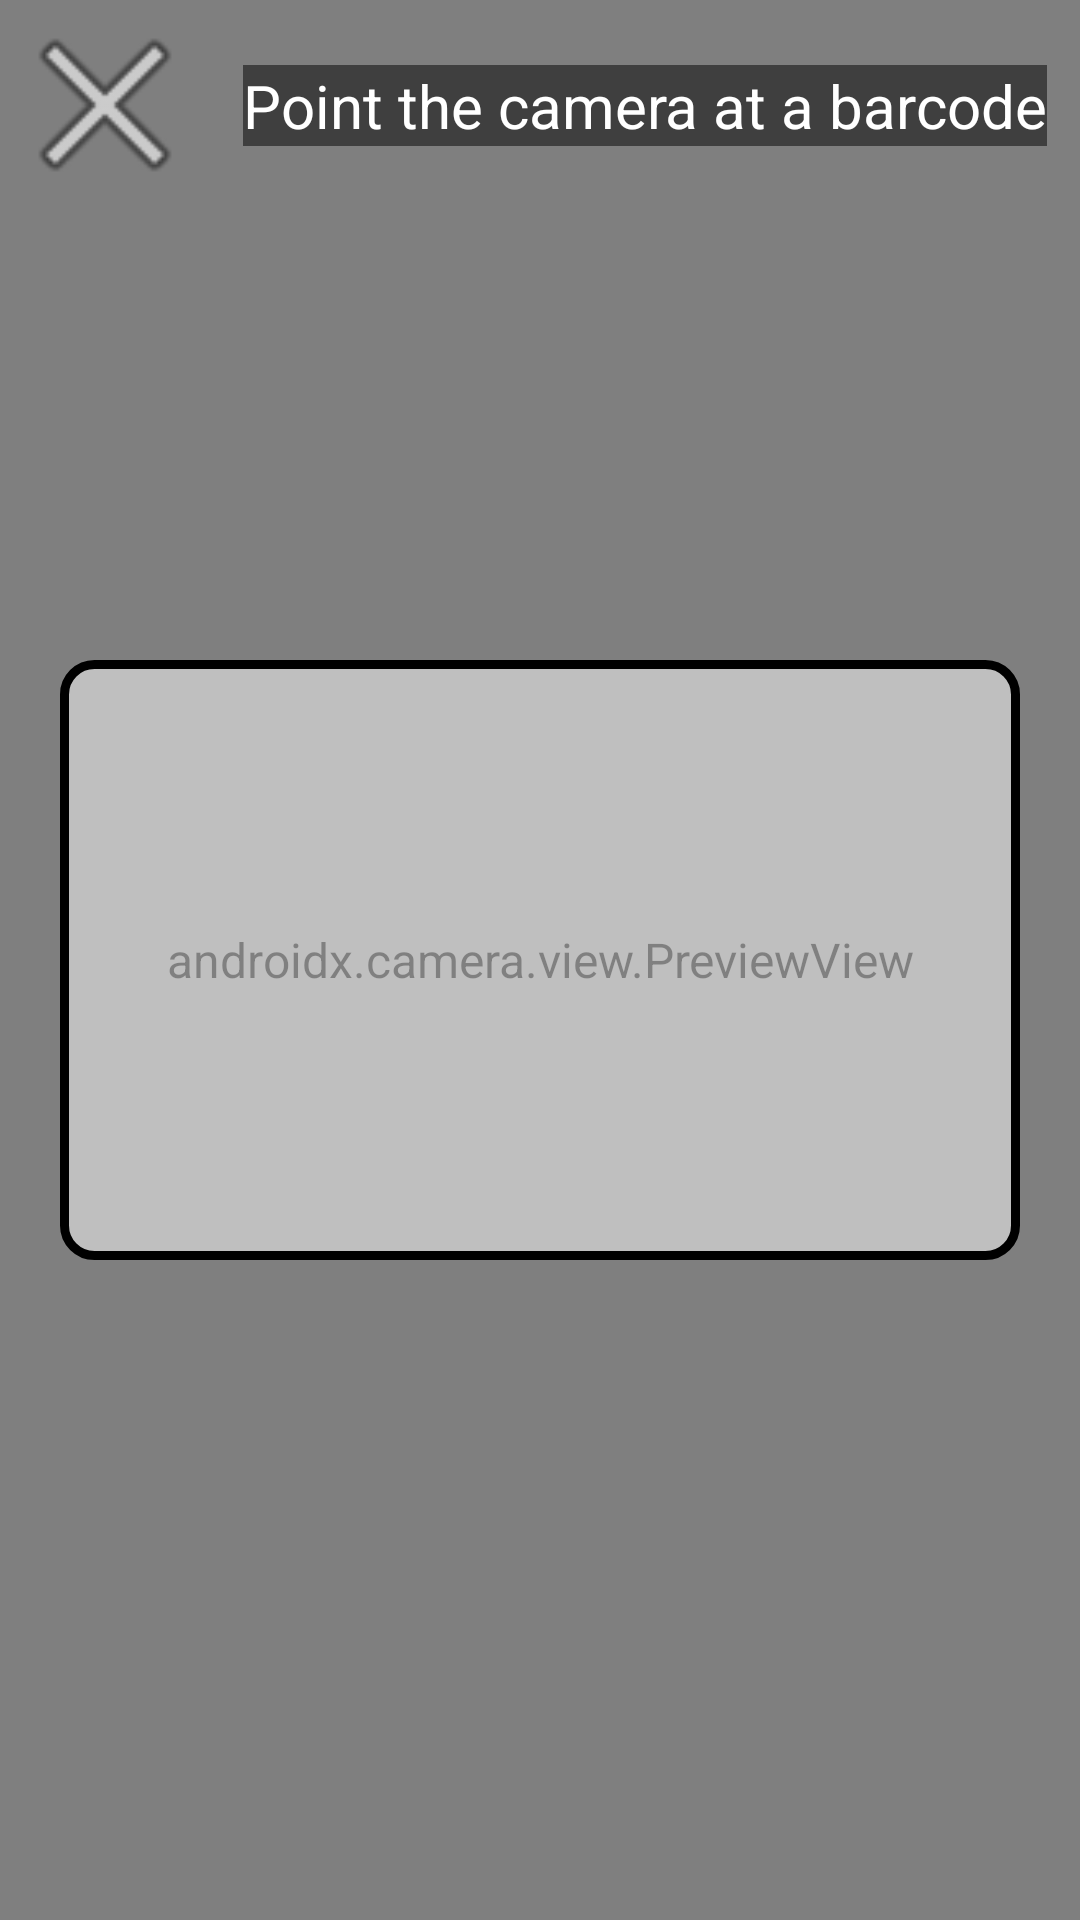

Named icons in this screenshot (1080px x 1920px) and their centers, [x,y]:
close clear cancel: [105,105]
